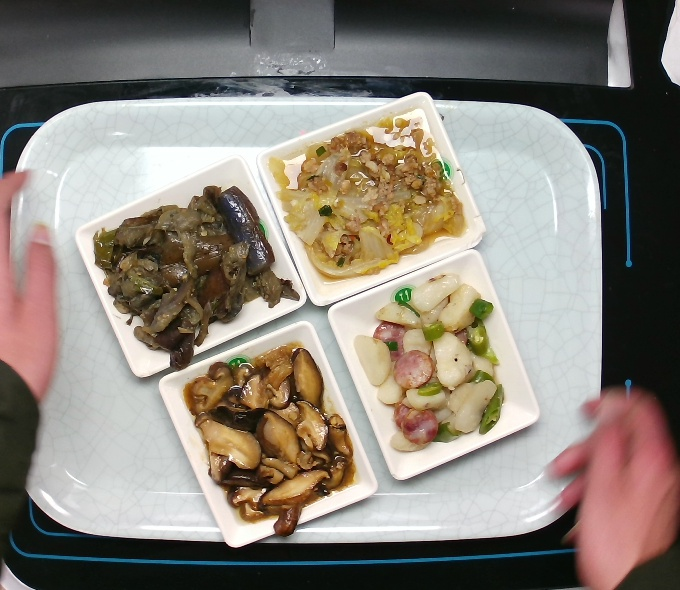wcq-MaTiGuo: (349, 269, 509, 455)
wcq-MoGu: (181, 341, 362, 540)
wcq-QieZi: (88, 179, 303, 374)
wcq-RouMoBaiCai: (263, 101, 474, 294)
